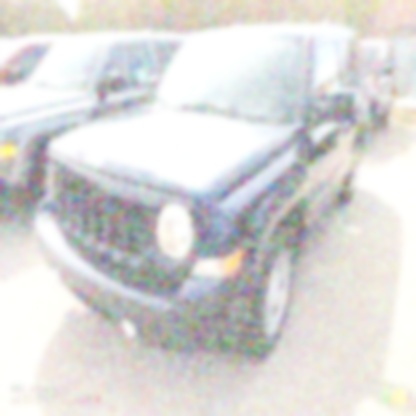Vehicle: (32, 22, 373, 360)
